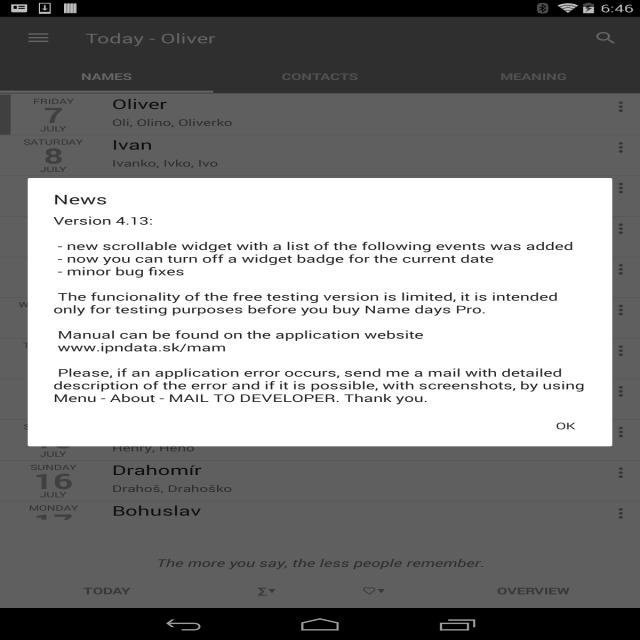ImageButton: (581, 23, 626, 51), (10, 27, 56, 45), (603, 95, 633, 120), (606, 135, 632, 159)
TextView: (46, 235, 575, 281), (38, 367, 588, 406), (58, 289, 569, 321), (48, 327, 436, 359), (81, 28, 226, 52), (108, 498, 232, 523), (266, 70, 397, 90), (106, 456, 225, 478), (32, 188, 134, 210), (488, 70, 584, 92), (65, 66, 153, 86), (100, 133, 174, 154), (106, 96, 180, 114), (25, 470, 83, 490), (540, 418, 590, 434)
